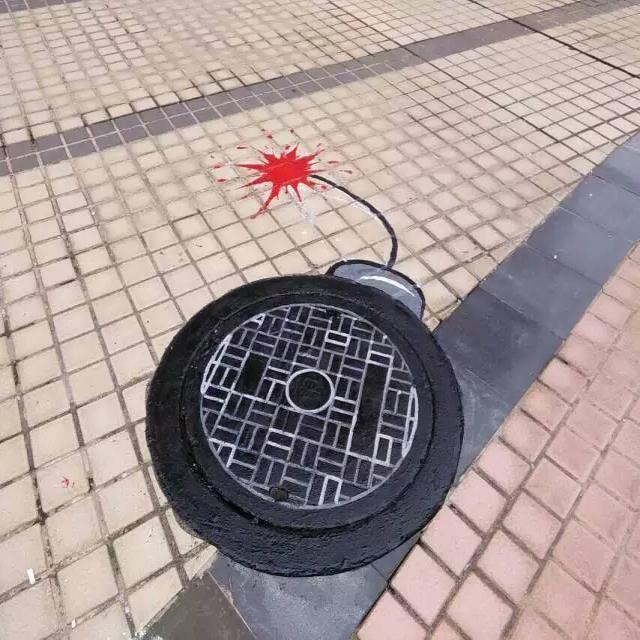manhole: (146, 274, 464, 576)
